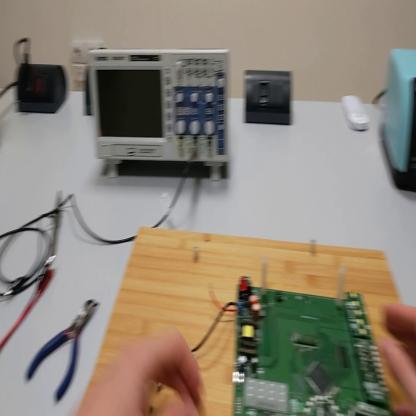hand: (76, 333, 205, 416), (376, 299, 416, 404)
low voltage board: (189, 256, 387, 416)
oscilloscope: (91, 48, 230, 183)
oscilloscope probe tip: (50, 190, 64, 261)
pliers: (23, 300, 101, 400)
socket: (16, 64, 68, 116), (86, 65, 94, 117)
welder station: (381, 50, 415, 193)
working area: (77, 227, 394, 414)
